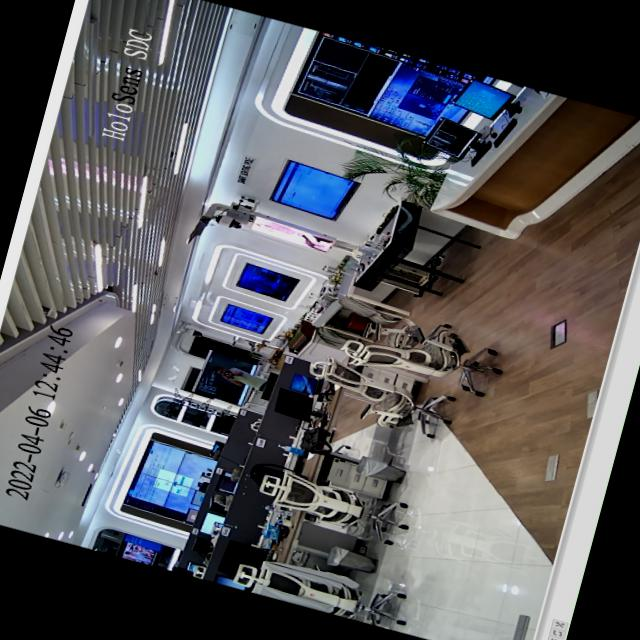long weapon: (220, 368, 237, 379)
